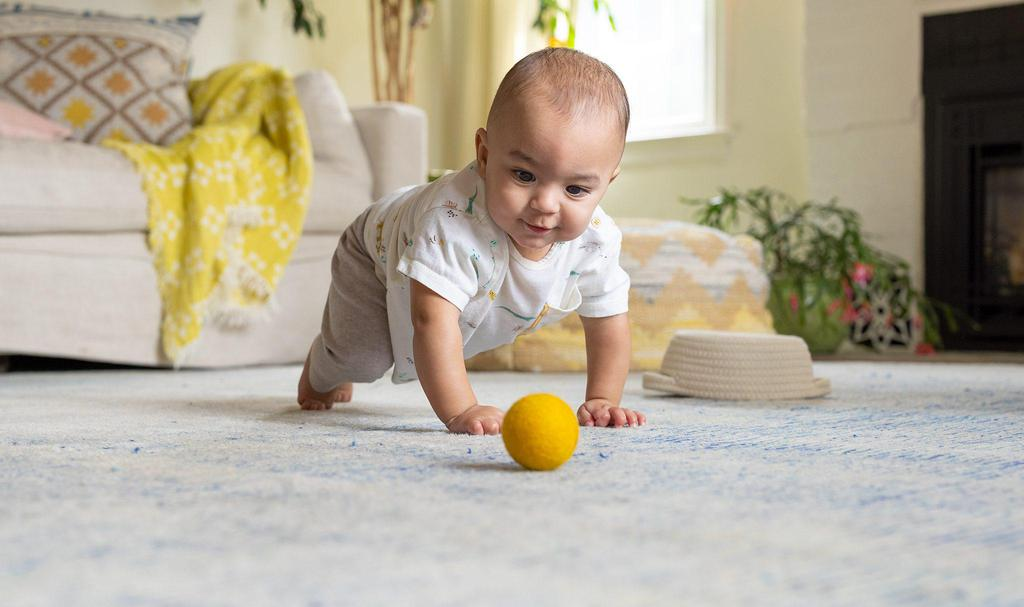child: (282, 46, 655, 441)
